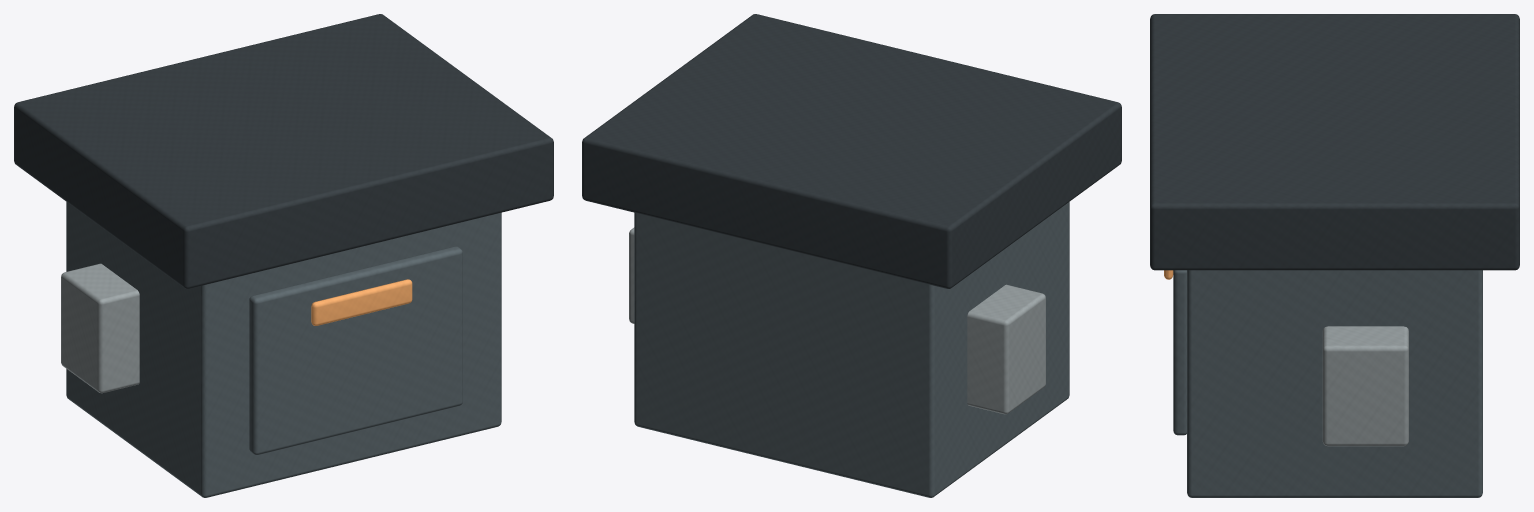
The model's file is CeilingCableJunction.glb.
3 renders of one model, left to right at view 1: azimuth 30°, elevation 25°; view 2: azimuth 150°, elevation 25°; view 3: azimuth 270°, elevation 25°, orthographic. The views are drawn at different scales.
Visible parts, largest first — view 1: CeilingCableJunction_Mesh; view 2: CeilingCableJunction_Mesh; view 3: CeilingCableJunction_Mesh.
Part boxes in pixels (<box>): CeilingCableJunction_Mesh: <box>14,14,553,497</box>; CeilingCableJunction_Mesh: <box>582,14,1121,497</box>; CeilingCableJunction_Mesh: <box>1150,14,1519,497</box>.
Size of the model in its own units: 0.76 by 0.56 by 0.6.
Materials: 4 (4 with a texture image).
